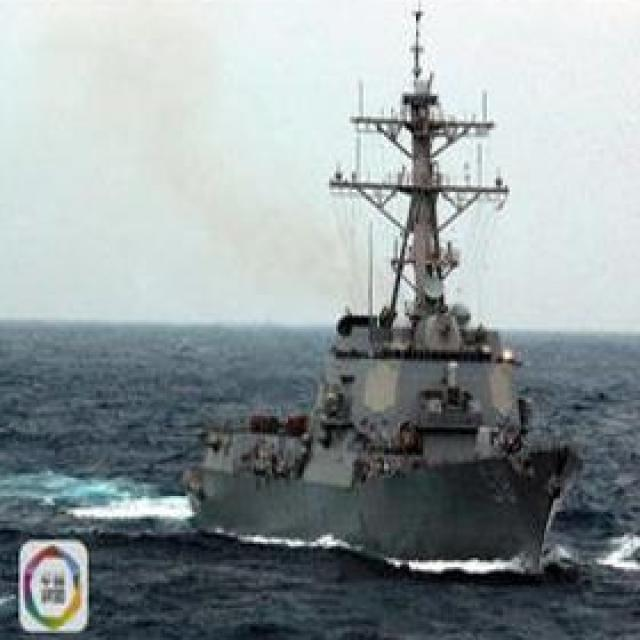navalvessels: (176, 0, 590, 569)
